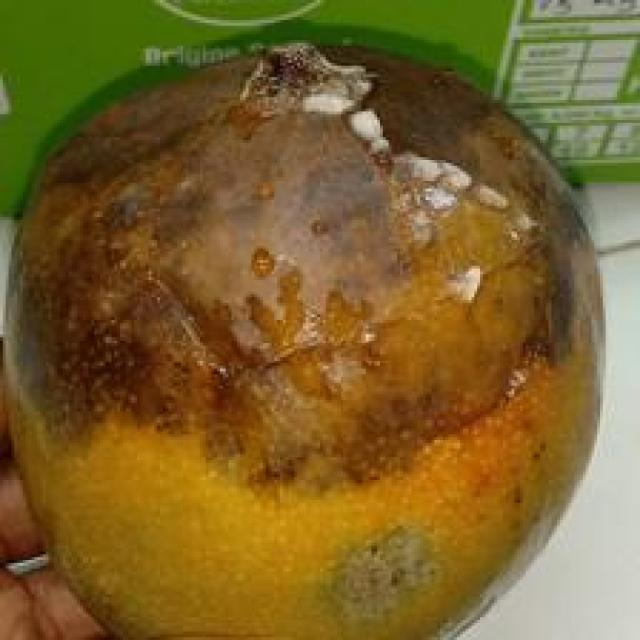Bad_Mango: (10, 48, 599, 640)
